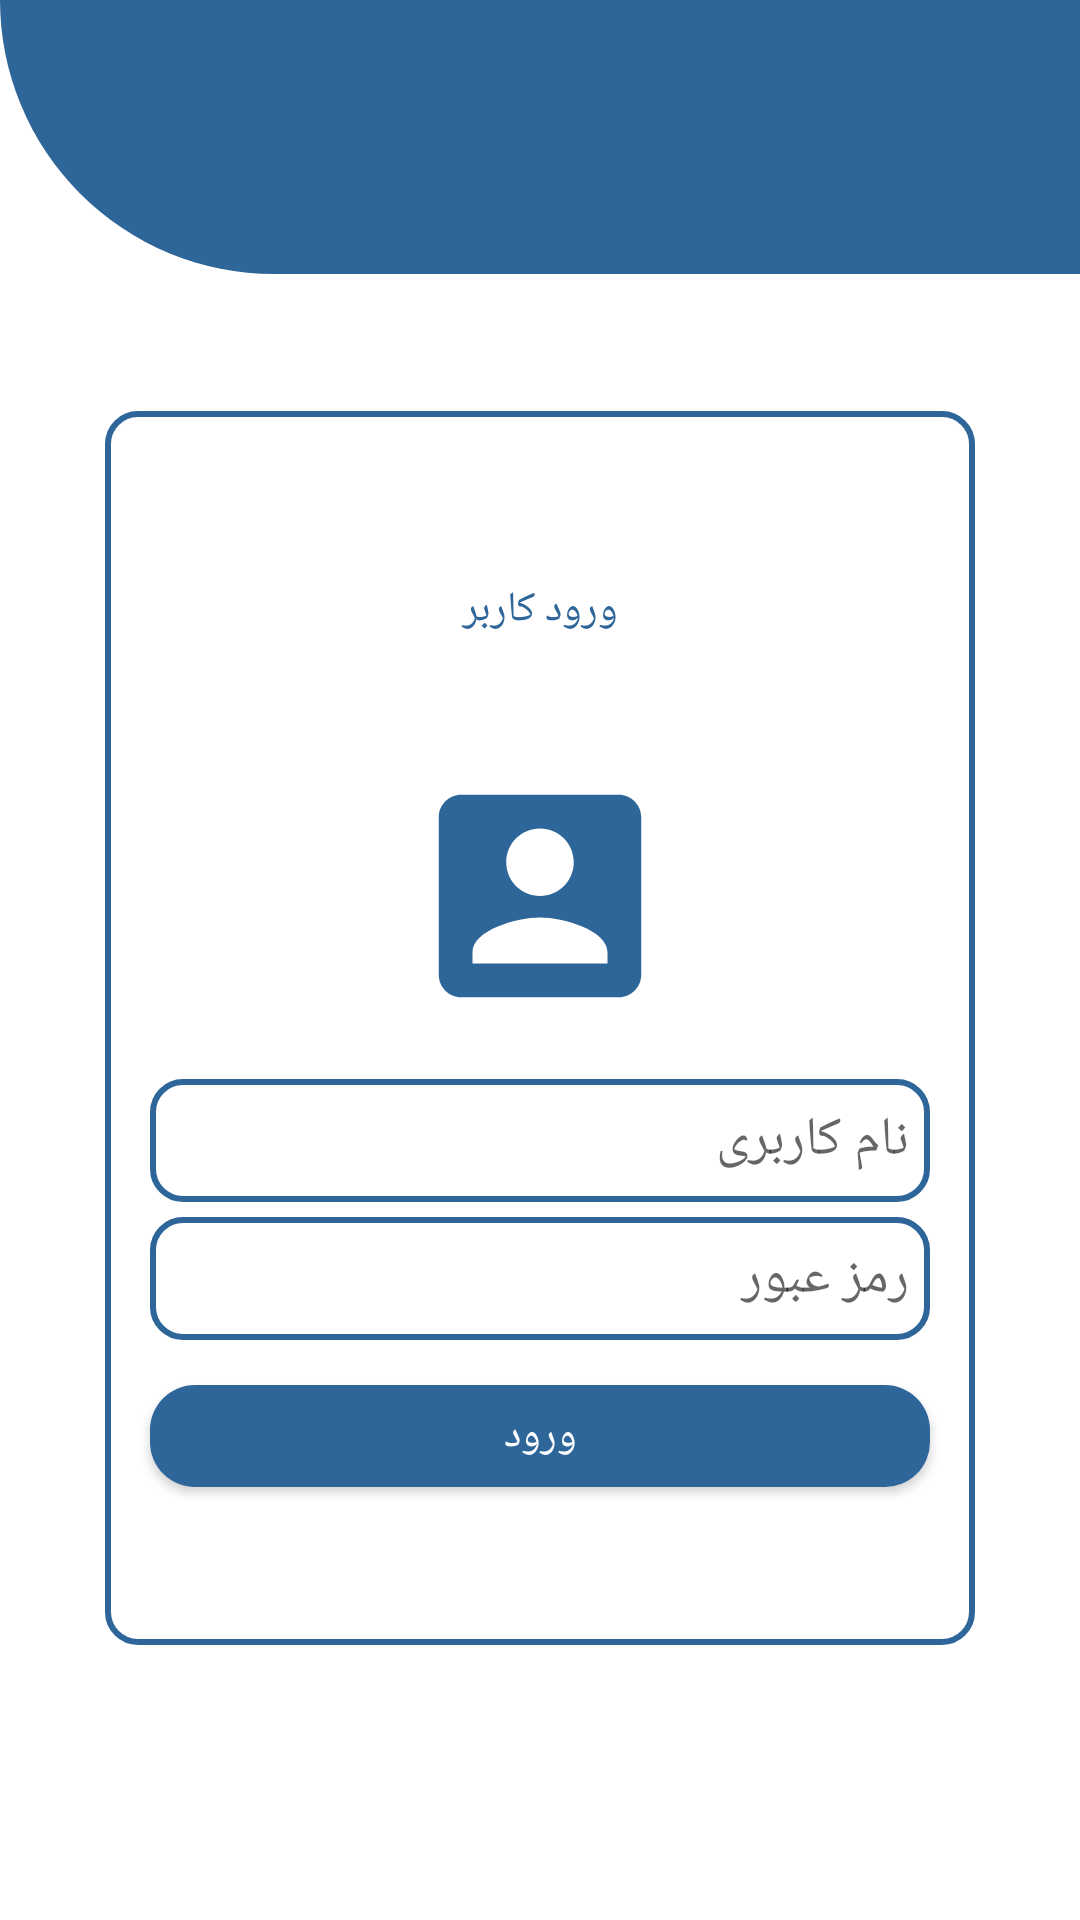

Locate icon controls on the screen. Image size 1080px x 1920px, boxes as bbox=(x1, y1, x2, y2).
account box: bbox=(438, 794, 642, 998)
